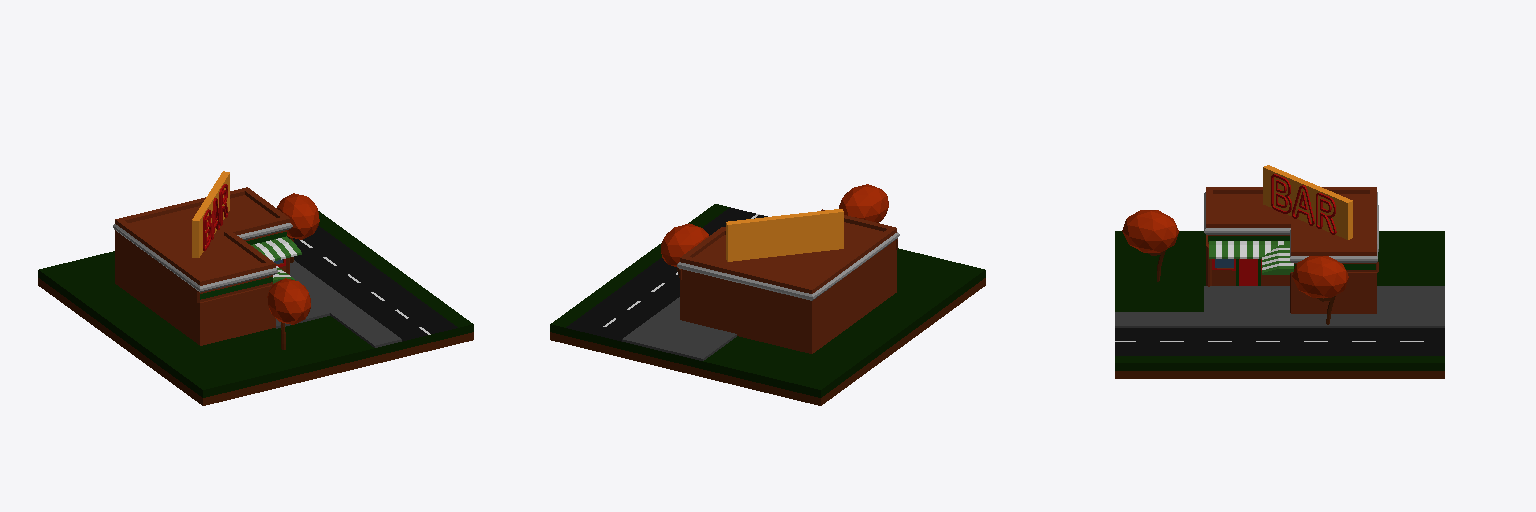
File: Bar_1246.obj
The picture shows the model from 3 angles: view 1: azimuth 30°, elevation 25°; view 2: azimuth 150°, elevation 25°; view 3: azimuth 270°, elevation 25°; orthographic projection.
Visible parts, largest first — view 1: Box001, Box002, GeoSphere001, GeoSphere002; view 2: Box001, Box002, GeoSphere001, GeoSphere002; view 3: Box001, Box002, GeoSphere001, GeoSphere002.
Part boxes in pixels (x1,y1,x2,y2): Box001: (38,211,473,405); Box002: (113,171,301,345); GeoSphere001: (267,278,310,324); GeoSphere002: (277,193,319,239); Box001: (550,204,985,405); Box002: (677,209,899,353); GeoSphere001: (839,184,888,222); GeoSphere002: (661,223,708,267); Box001: (1115,231,1444,378); Box002: (1204,165,1378,313); GeoSphere001: (1122,210,1178,252); GeoSphere002: (1292,256,1348,297).
Bounding box in the file's own units: 133 × 53.45 × 140.